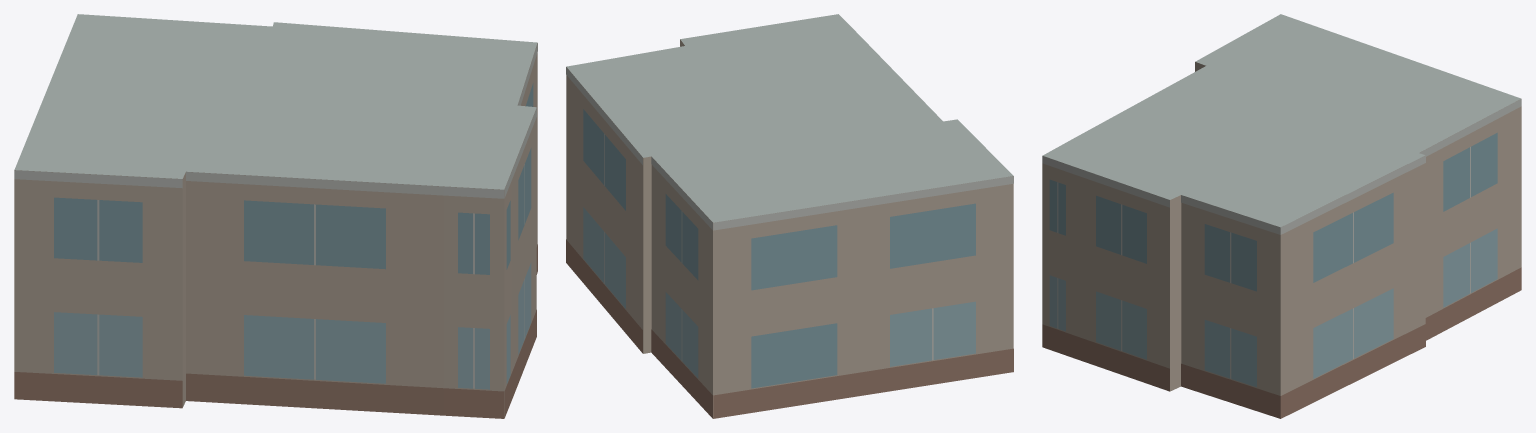
The model's file is survey-upis-32656783.glb.
3 renders of one model, left to right at view 1: azimuth 30°, elevation 25°; view 2: azimuth 150°, elevation 25°; view 3: azimuth 270°, elevation 25°, orthographic. The views are drawn at different scales.
Parts seen in each view (by area): view 1: survey-upis-32656783.tmp; view 2: survey-upis-32656783.tmp; view 3: survey-upis-32656783.tmp.
Part boxes in pixels (<box>): survey-upis-32656783.tmp: <box>14,14,537,418</box>; survey-upis-32656783.tmp: <box>566,14,1013,418</box>; survey-upis-32656783.tmp: <box>1042,14,1521,418</box>.
Size of the model in its own units: 14.58 by 6.1 by 13.84.
